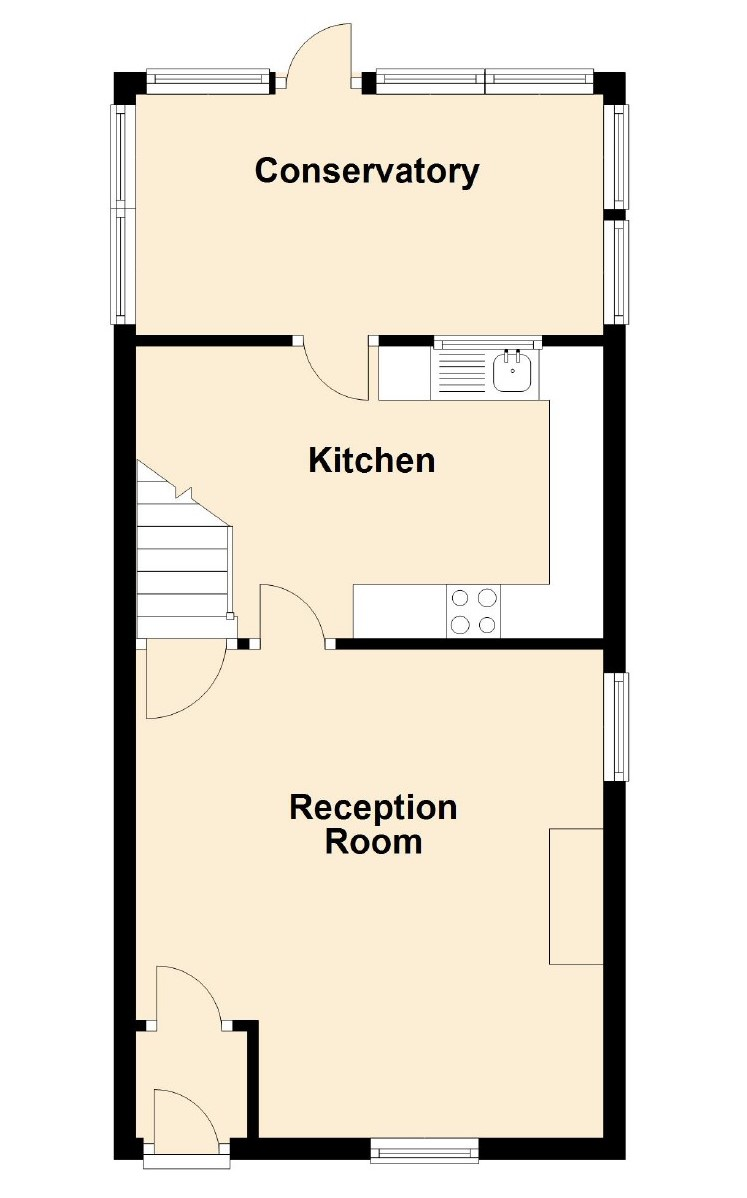wall: (113, 322, 138, 1162), (602, 779, 625, 1153), (602, 328, 623, 668), (471, 1132, 623, 1162), (340, 637, 605, 653), (136, 333, 302, 350), (243, 1022, 267, 1137), (231, 1139, 367, 1157), (598, 73, 625, 106), (116, 72, 145, 101), (542, 330, 602, 344), (380, 330, 427, 344), (605, 204, 629, 222), (360, 72, 371, 97)
